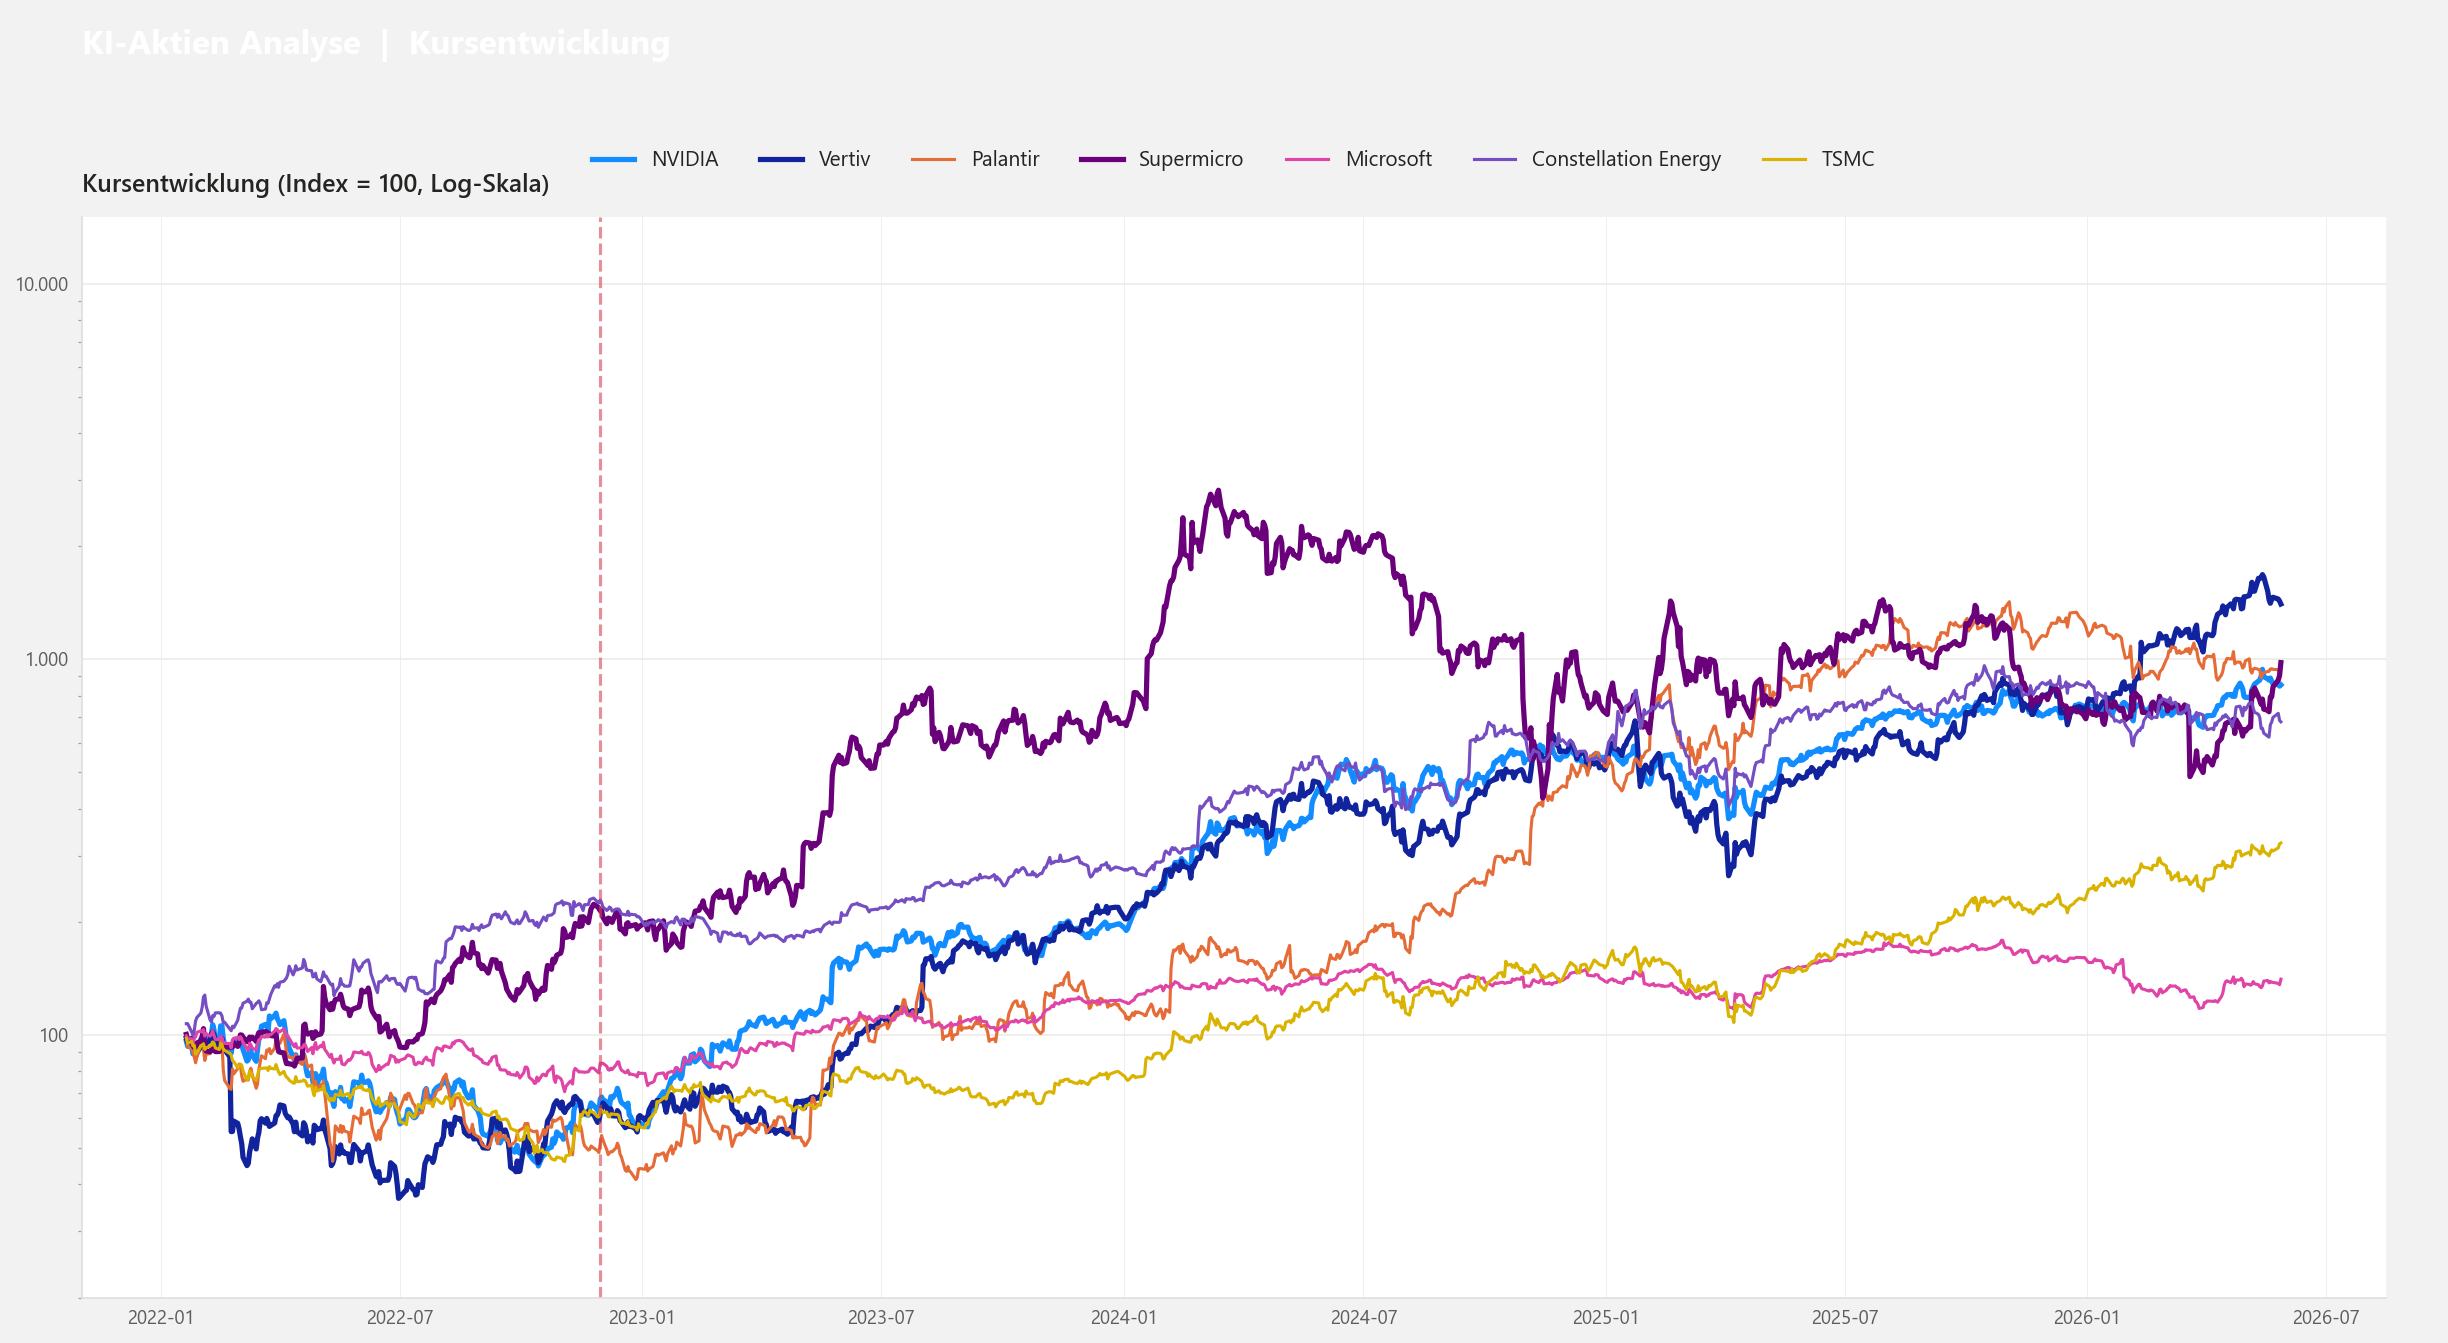

This screenshot's page, from the dashboard's own definition file:
{"tool":"powerbi","page":{"name":"Kursentwicklung","canvas":[1280,720],"ordinal":1},"visuals":[{"type":"lineChart","title":"Kursentwicklung ausgewählter KI- und Lieferketten-Aktien","fields":{"Y":["Avg(ai_tech_daily.Index_100)"],"Series":["ai_tech_daily.Symbol"],"Category":["ai_tech_daily.Date.Variation.Datumshierarchie.Jahr"]},"box":[179.8,130.4,823.3,491.3],"z":0}]}

Visuals, with their boxes in screenshot pixels (x1, y1, x2, y2), scaled from the page's 1280x720 canvas onto the 2448x1343 screenshot:
"Kursentwicklung ausgewählter KI- und Lieferketten-Aktien" lineChart: pyautogui.locateOnScreen(344, 243, 1918, 1160)
